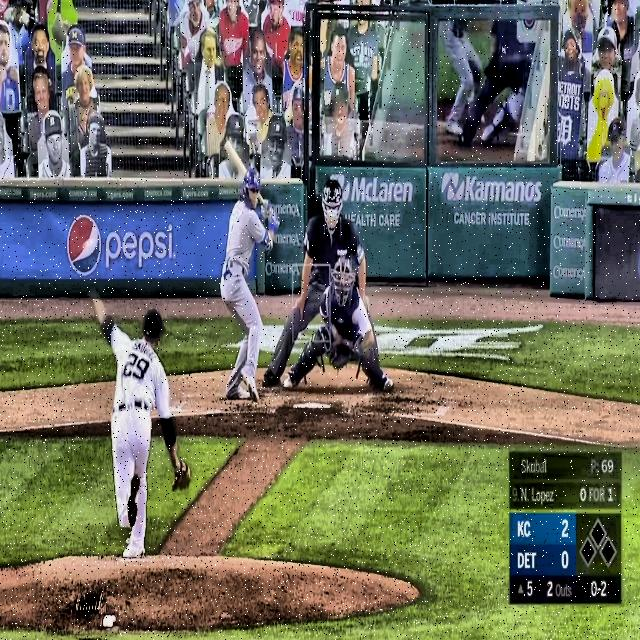baseball: (82, 236, 100, 252)
